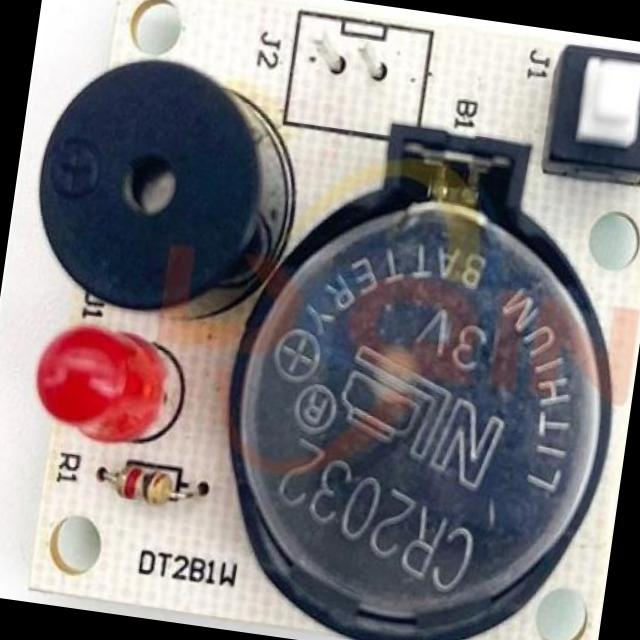LED: (8, 310, 174, 455)
resistor: (92, 459, 188, 521)
